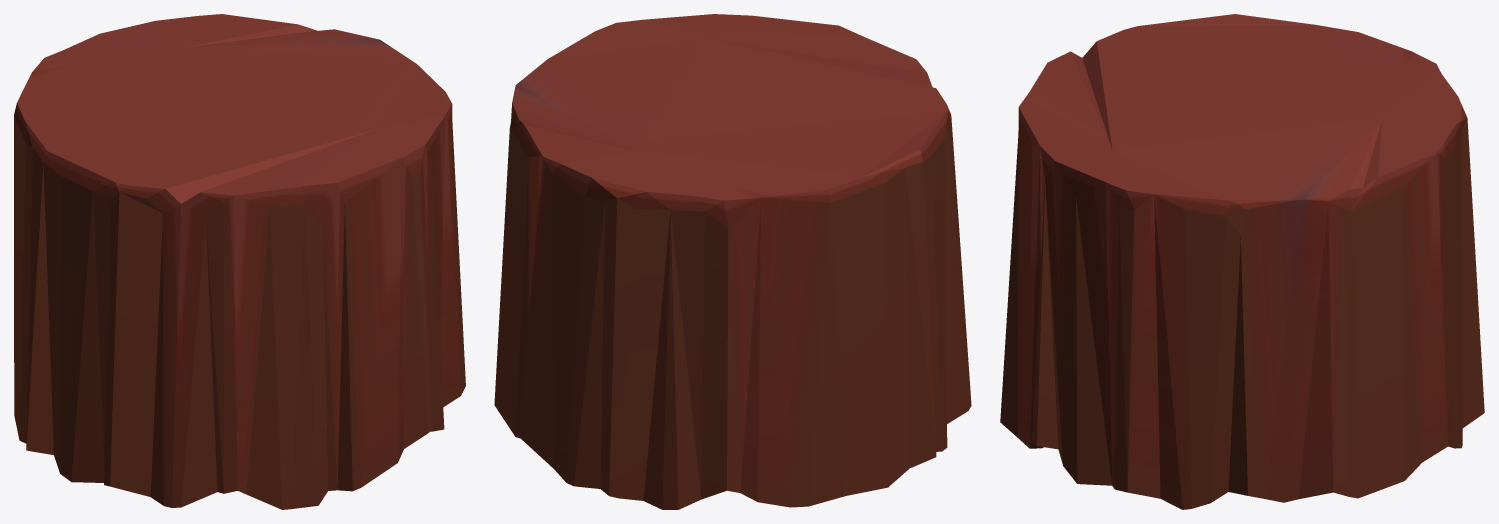
File: SM_Prop_Table_02_Cloth_01.glb
The picture shows the model from 3 angles, left to right: view 1: azimuth 30°, elevation 25°; view 2: azimuth 150°, elevation 25°; view 3: azimuth 270°, elevation 25°; orthographic projection. The views are drawn at different scales.
Visible parts, largest first — view 1: SM_Prop_Table_02_Cloth_01; view 2: SM_Prop_Table_02_Cloth_01; view 3: SM_Prop_Table_02_Cloth_01.
Part boxes in pixels (box(x1,y1,x2,y2)): SM_Prop_Table_02_Cloth_01: box(14, 14, 465, 509); SM_Prop_Table_02_Cloth_01: box(494, 14, 971, 509); SM_Prop_Table_02_Cloth_01: box(1000, 14, 1484, 509).
Bounding box in the file's own units: 125 × 93.72 × 126.
Materials: 1 (1 with a texture image).
